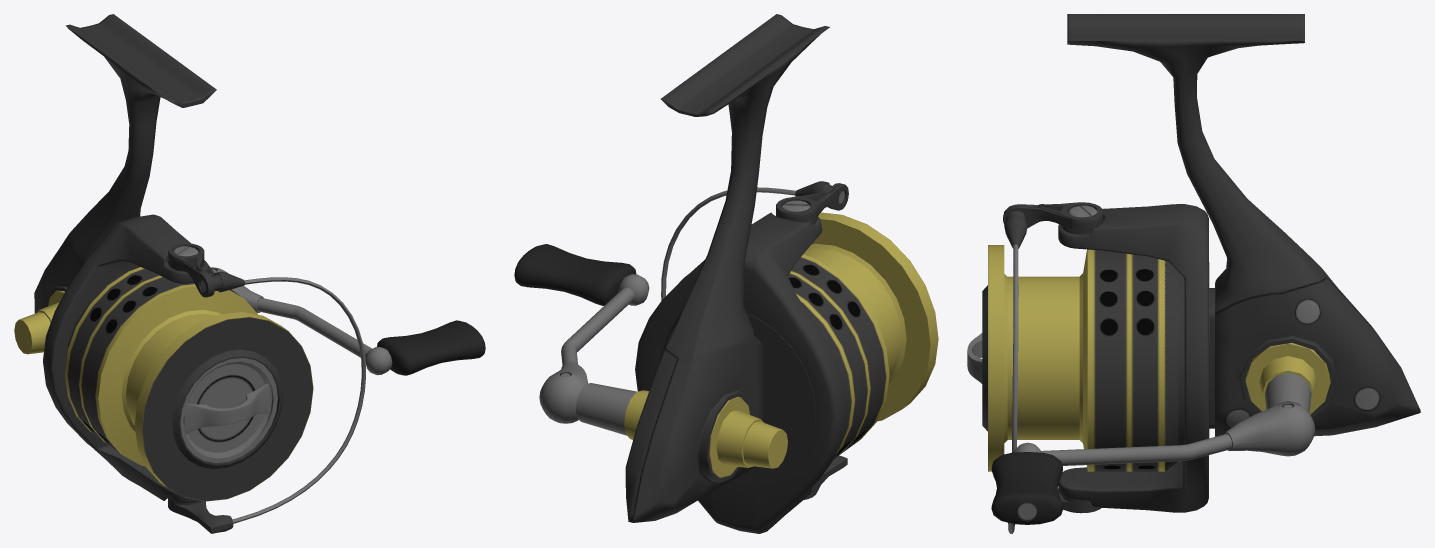
File: Kat_001.glb
The picture shows the model from 3 angles, left to right: view 1: azimuth 30°, elevation 25°; view 2: azimuth 150°, elevation 25°; view 3: azimuth 270°, elevation 25°; orthographic projection. The views are drawn at different scales.
Visible parts, largest first — view 1: Spool_low, Body_low, Rotor_low, Knob_low, Bail_arm_low, Handle_low, Handle_small_low; view 2: Body_low, Spool_low, Rotor_low, Handle_low, Handle_small_low, Bail_arm_low; view 3: Body_low, Spool_low, Rotor_low, Handle_low, Handle_small_low, Bail_arm_low, Knob_low.
Part boxes in pixels (bbox=[...]): Spool_low: bbox=[64, 267, 313, 501]; Body_low: bbox=[34, 14, 216, 313]; Rotor_low: bbox=[43, 214, 214, 502]; Knob_low: bbox=[180, 358, 277, 462]; Bail_arm_low: bbox=[168, 243, 365, 533]; Handle_low: bbox=[14, 267, 392, 375]; Handle_small_low: bbox=[377, 320, 485, 375]; Body_low: bbox=[625, 14, 829, 522]; Spool_low: bbox=[788, 212, 938, 459]; Rotor_low: bbox=[635, 212, 846, 533]; Handle_low: bbox=[539, 274, 787, 477]; Handle_small_low: bbox=[514, 244, 636, 305]; Bail_arm_low: bbox=[661, 181, 848, 499]; Body_low: bbox=[1067, 14, 1420, 437]; Spool_low: bbox=[982, 245, 1178, 471]; Rotor_low: bbox=[1058, 204, 1208, 512]; Handle_low: bbox=[1013, 343, 1330, 465]; Handle_small_low: bbox=[991, 452, 1063, 524]; Bail_arm_low: bbox=[1003, 202, 1103, 533]; Knob_low: bbox=[967, 333, 982, 383].
Size of the model in its own units: 0.1507 by 0.1701 by 0.1454.
Materials: 1 (1 with a texture image).
